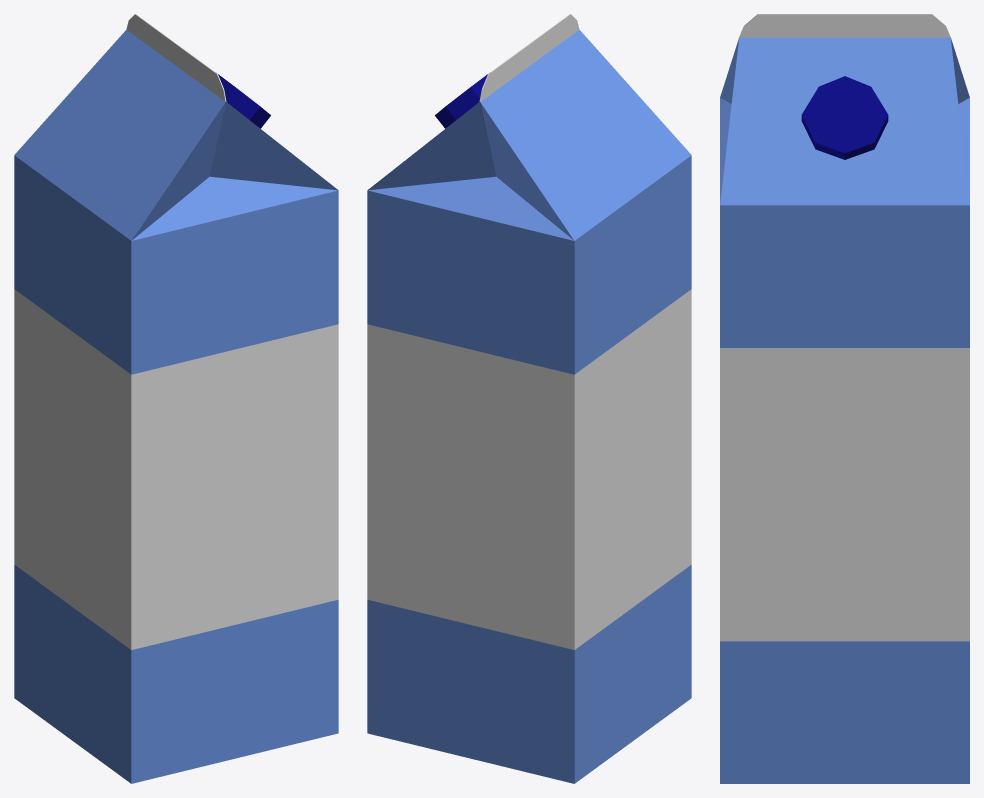
The model's file is milk.fbx.
3 views of the same model, side by side, from view 1: azimuth 30°, elevation 25°; view 2: azimuth 150°, elevation 25°; view 3: azimuth 270°, elevation 25° (orthographic). The views are drawn at different scales.
Visible parts, largest first — view 1: Leite; view 2: Leite; view 3: Leite.
Part boxes in pixels (left/top/right/bottom): Leite: left=14, top=14, right=338, bottom=783; Leite: left=367, top=14, right=691, bottom=783; Leite: left=720, top=14, right=969, bottom=783.
Size of the model in its own units: 7 by 21.67 by 6.86.
